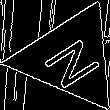N_NE: (34, 27, 105, 89)
